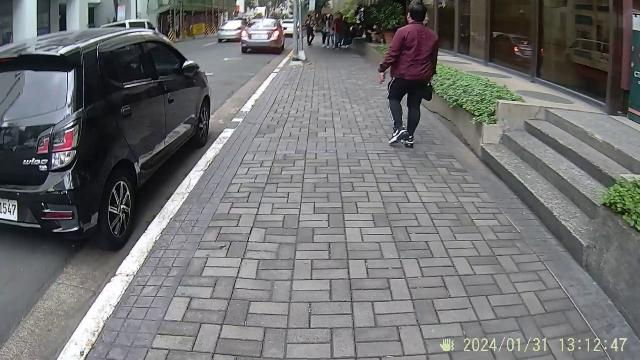car: (0, 15, 216, 253)
utility_post: (290, 0, 306, 62)
